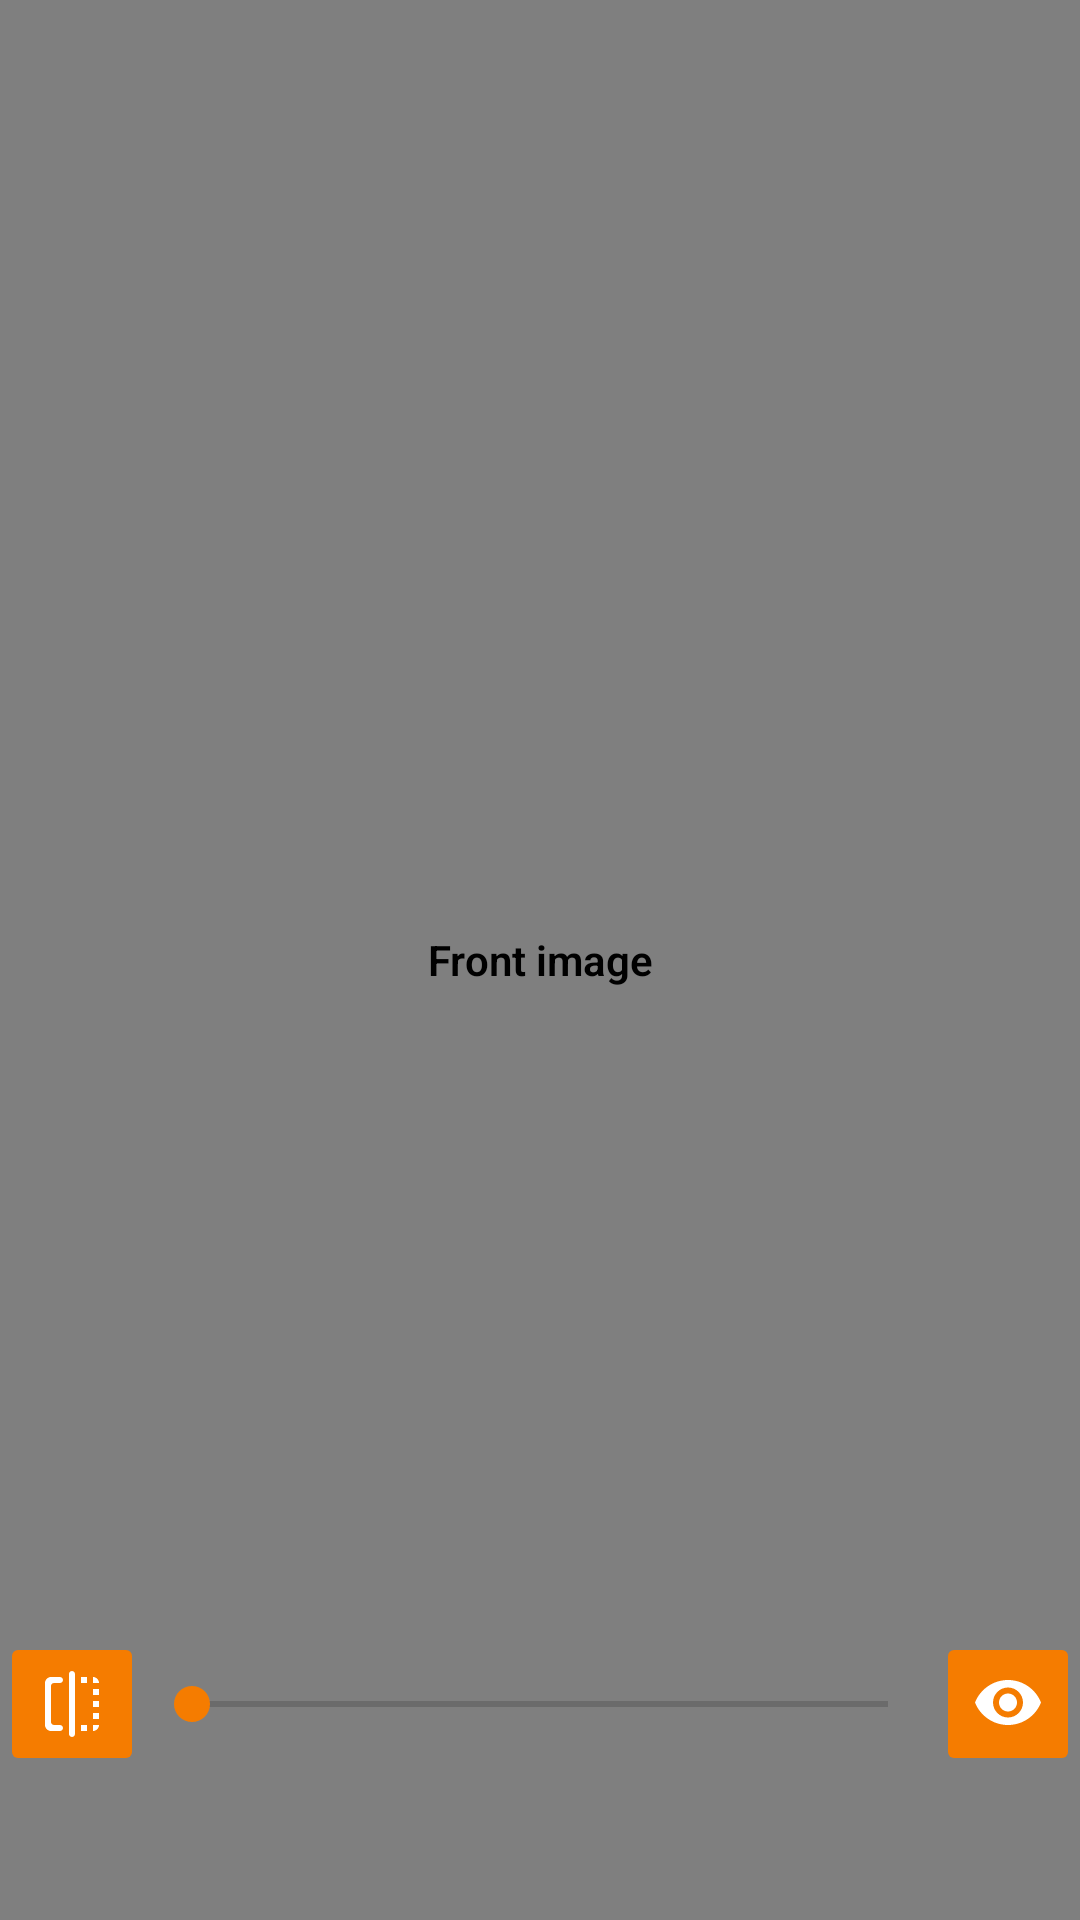

Screen size 1080×1920. Icon name, then its box in pixels as (x1, y1, x2, y2):
Switch slide direction: (12, 1650, 132, 1758)
